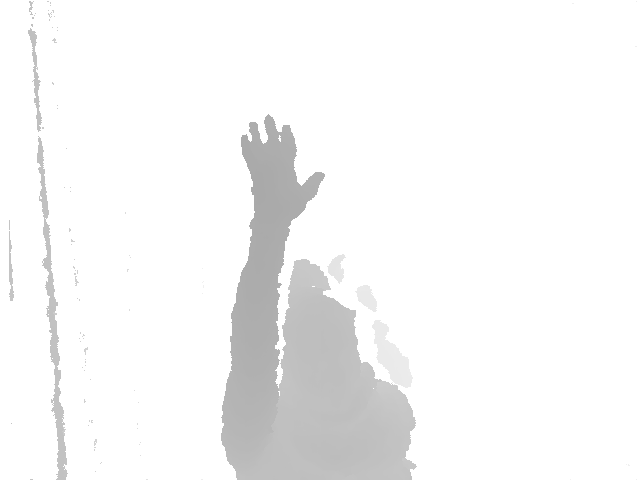hand: (235, 115, 328, 230)
head: (277, 257, 380, 404)
person: (217, 113, 419, 480)
